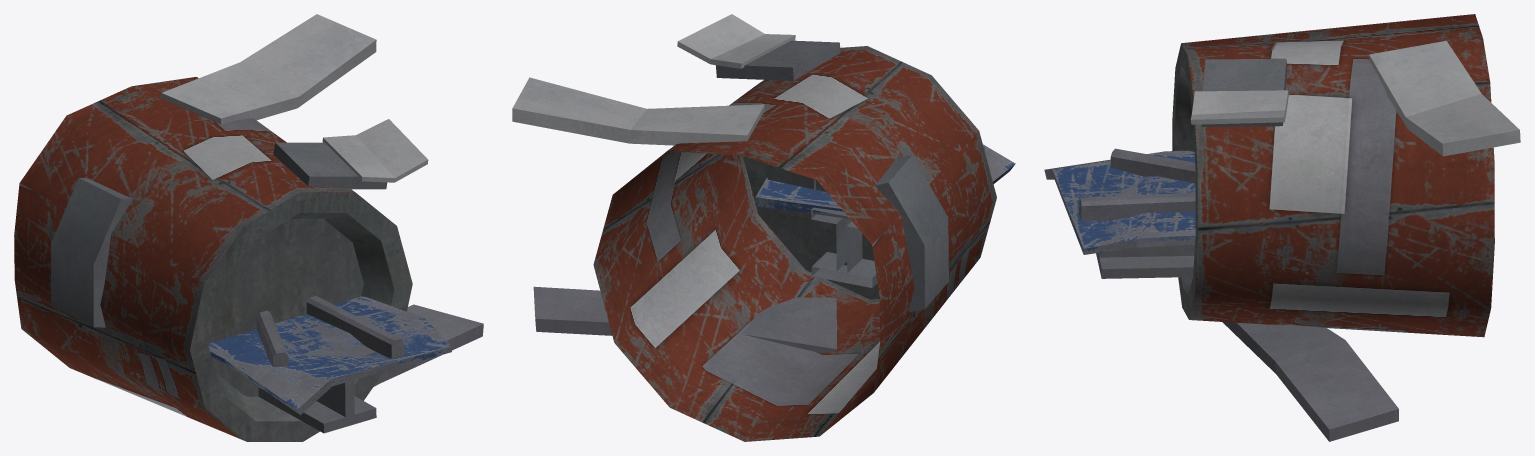
File: HCP15.fbx
The picture shows the model from 3 angles, left to right: view 1: azimuth 30°, elevation 25°; view 2: azimuth 150°, elevation 25°; view 3: azimuth 270°, elevation 25°; orthographic projection. The views are drawn at different scales.
Visible parts, largest first — view 1: fifteenD; view 2: fifteenD; view 3: fifteenD.
Part boxes in pixels (box(x1,y1,x2,y2)): fifteenD: box(14, 14, 483, 441); fifteenD: box(512, 14, 1015, 441); fifteenD: box(1044, 14, 1520, 441).
Bounding box in the file's own units: 4809 × 3270 × 4804.
Materials: 1 (1 with a texture image).
